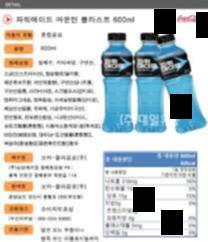powerade_mountainblast: (101, 28, 135, 135)
